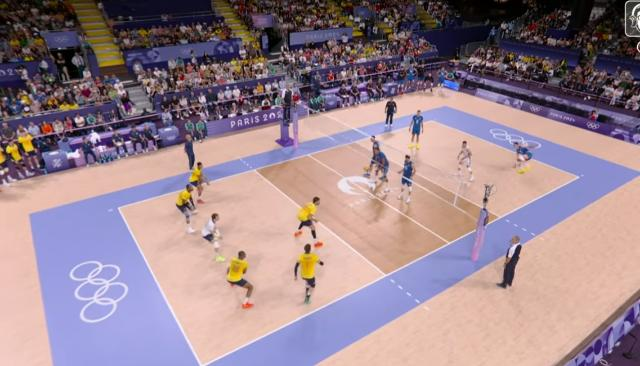Levantador: (298, 242, 318, 306), (411, 110, 422, 146)
Libero: (201, 214, 223, 264), (458, 139, 474, 181)
bola: (364, 166, 370, 172)
